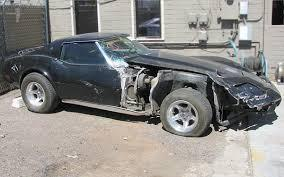Front-Windscreen-Damage: (102, 36, 129, 71)
bonnet-dent: (137, 44, 228, 79)
